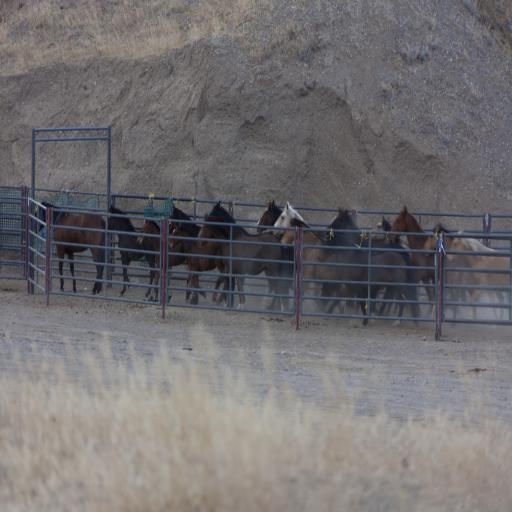Horse: (325, 206, 420, 329), (195, 199, 288, 317), (384, 202, 460, 326), (279, 217, 370, 319), (423, 218, 502, 322), (163, 205, 233, 317), (34, 203, 108, 300), (450, 232, 512, 326), (273, 211, 327, 315), (134, 217, 190, 307), (106, 202, 158, 297), (254, 197, 292, 308)
